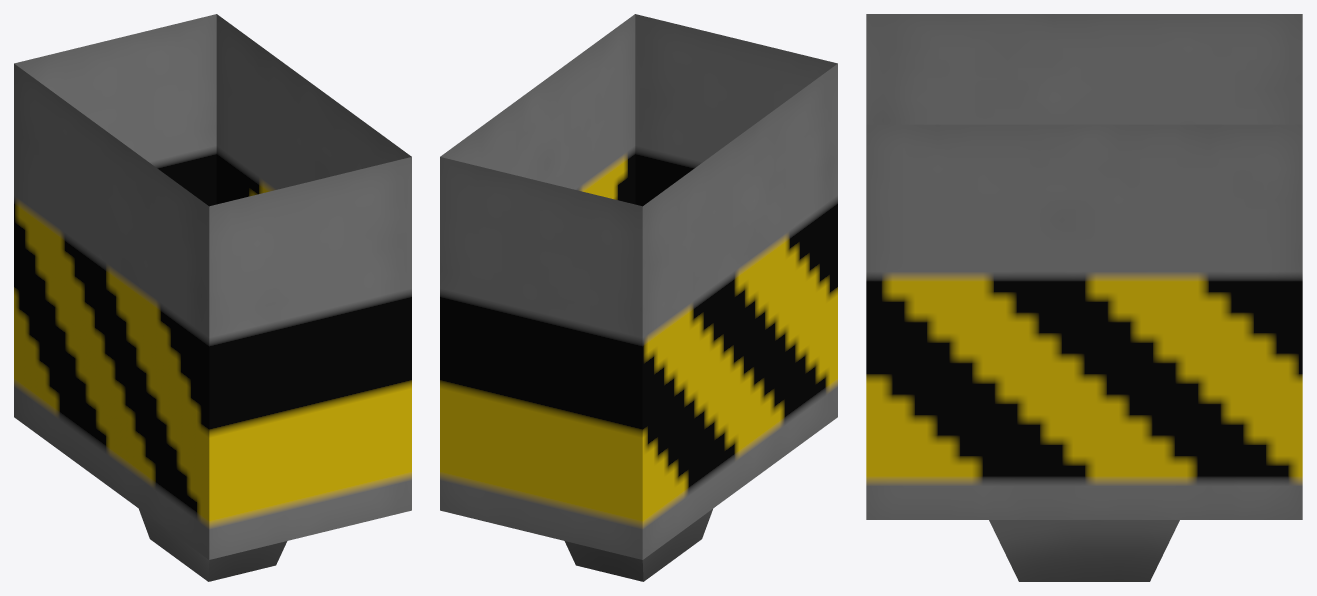
The model's file is sliding_blast_door_short_tooth.obj.
3 views of the same model, side by side, from view 1: azimuth 30°, elevation 25°; view 2: azimuth 150°, elevation 25°; view 3: azimuth 270°, elevation 25° (orthographic). The views are drawn at different scales.
Visible parts, largest first — view 1: Cube.001_Cube.002; view 2: Cube.001_Cube.002; view 3: Cube.001_Cube.002.
Boxes of the visible parts, x1,y1,x2,y2 form: Cube.001_Cube.002: (14,14,411,581); Cube.001_Cube.002: (440,14,837,581); Cube.001_Cube.002: (866,14,1302,581).
Bounding box in the file's own units: 0.6 × 1.25 × 1.
